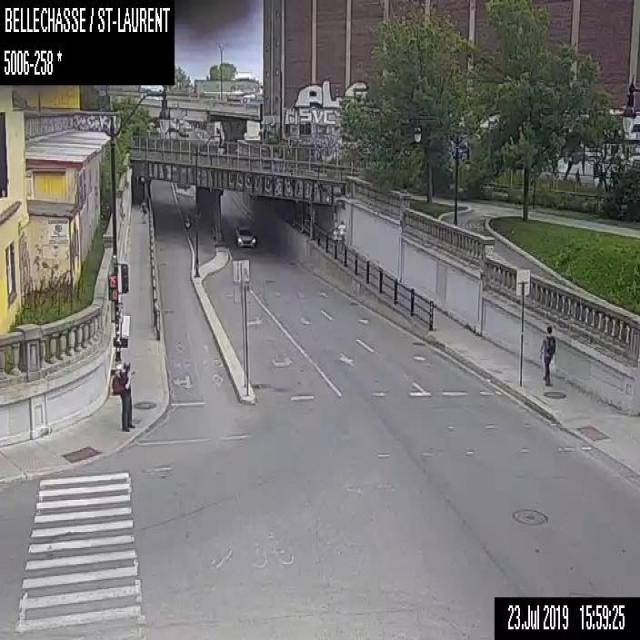pedestrian: (111, 360, 134, 432), (540, 324, 554, 384), (337, 220, 345, 240), (333, 225, 337, 239)
vehicle: (234, 224, 254, 247)
